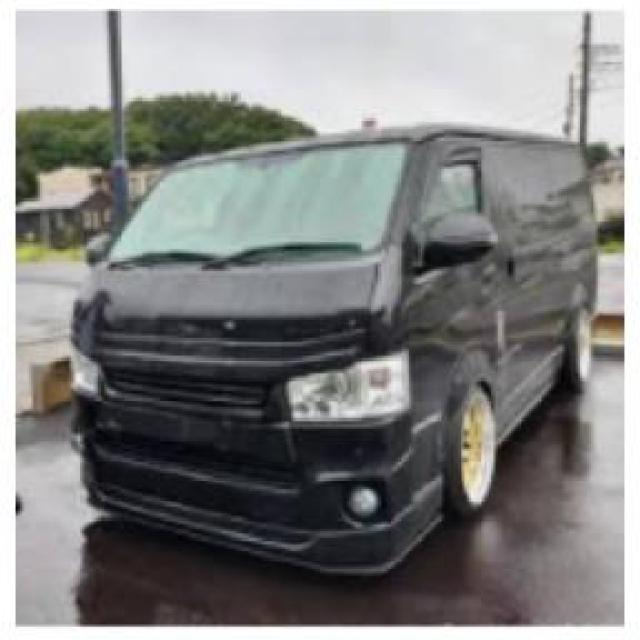Van: (65, 115, 602, 576)
